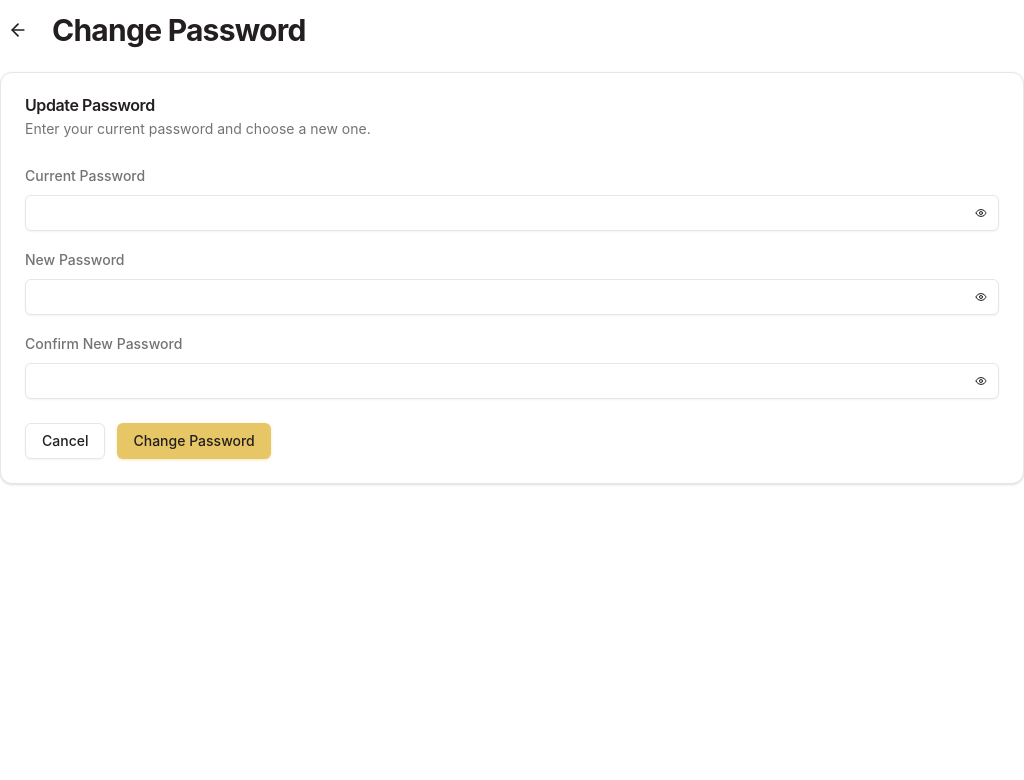
Test case: ChangePassword › should show validation error when passwords do not match
In the password field with test id "password-new-input": (512, 297) [25,279,999,315], type "newpassword123"
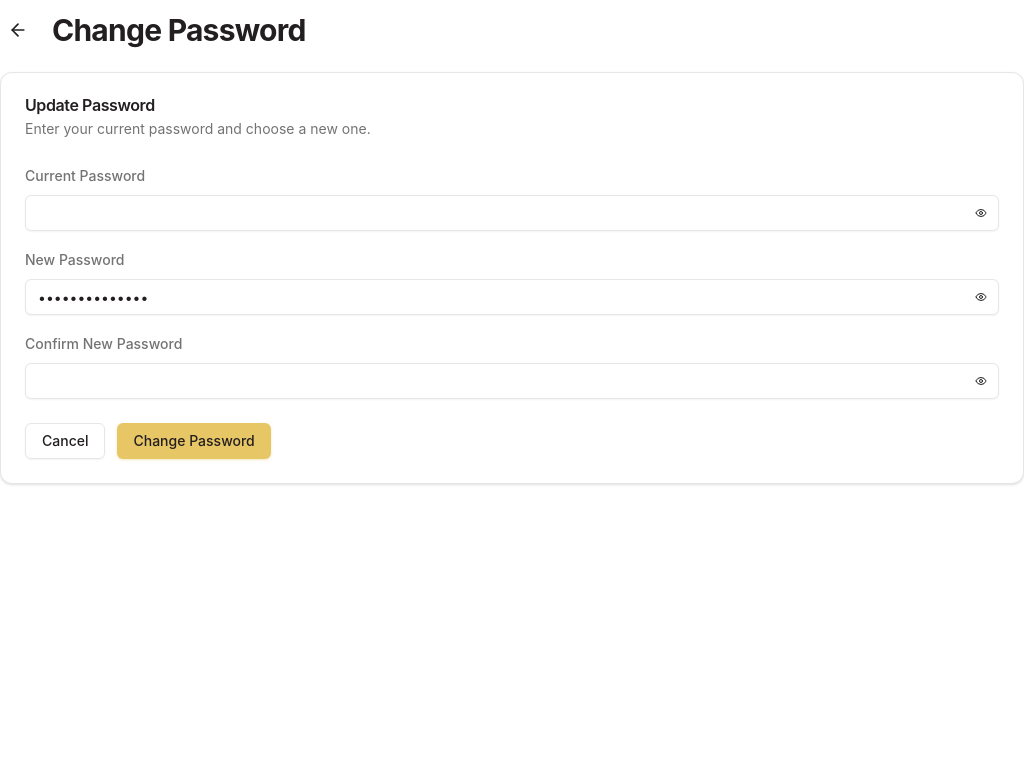
In the password field with test id "password-confirm-input": (512, 381) [25,363,999,399], type "different123"
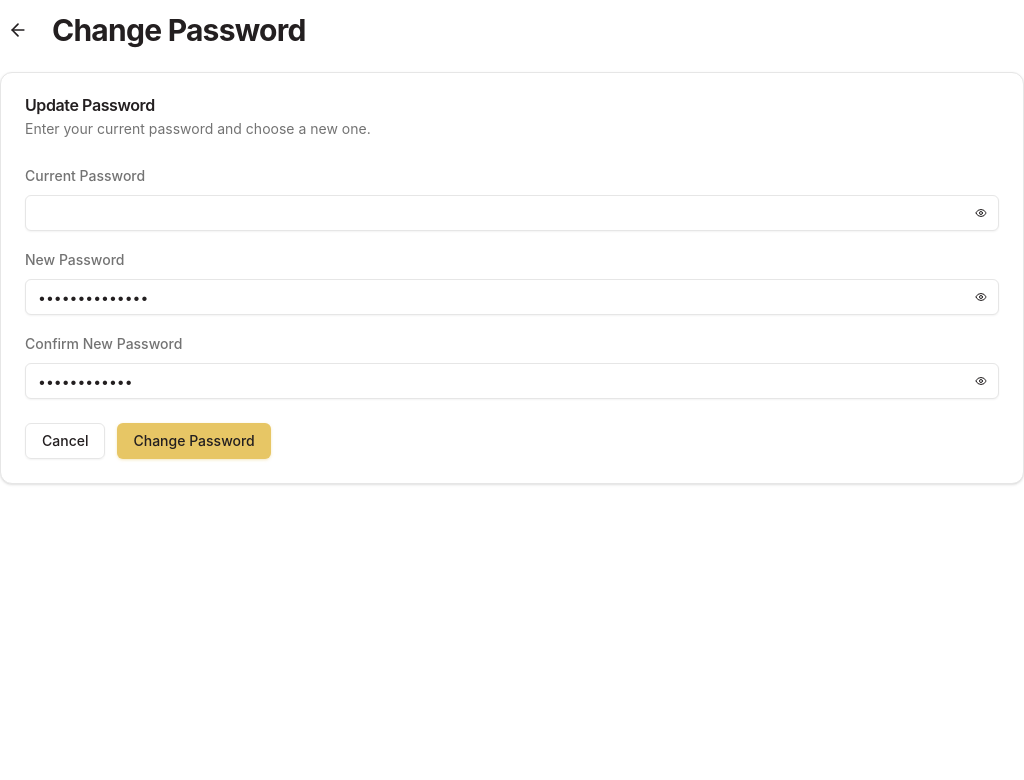
Click the button with test id "password-submit-button": (194, 441) [118,423,271,459]
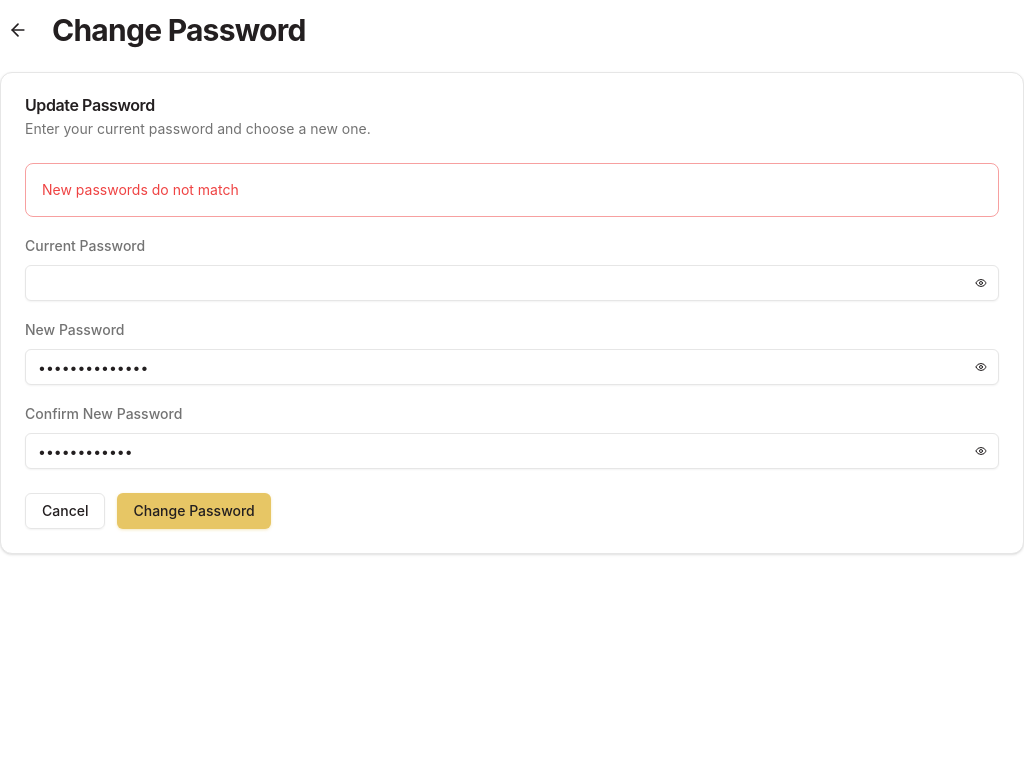
Check: the message "New passwords do not match" is shown, box [25,163,999,217]
Check: the text "New passwords do not match" is shown, box [42,181,239,198]
